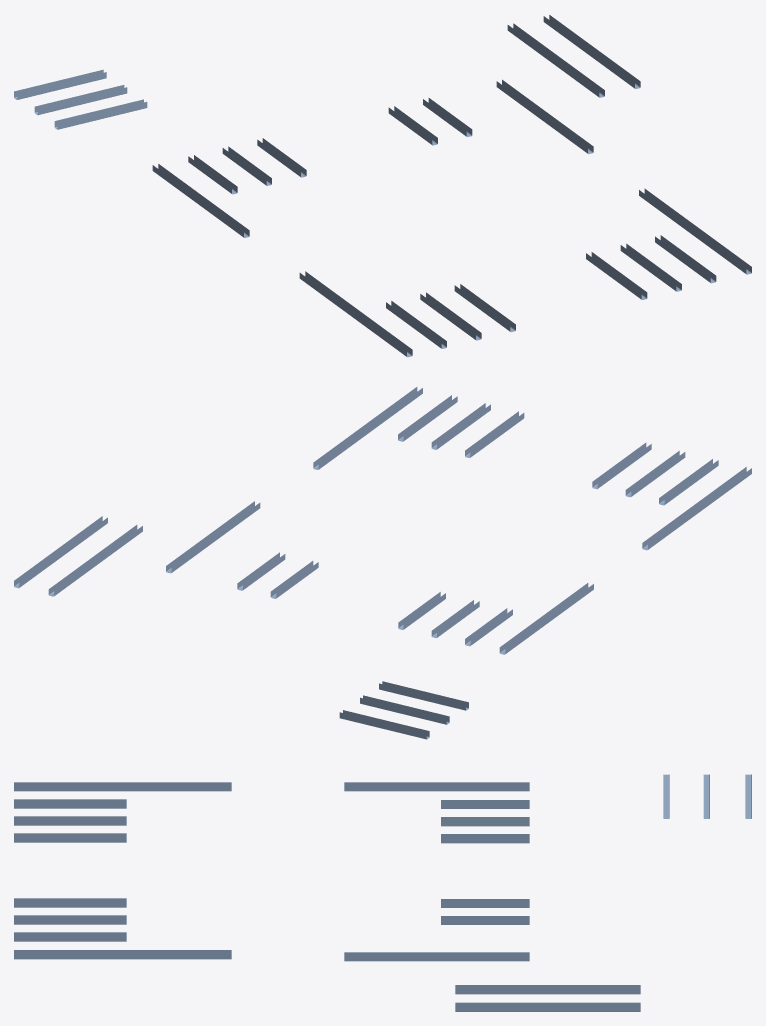
Rendered from Floor01_beams.fbx.
3 renders of one model, top to bottom at view 1: azimuth 30°, elevation 25°; view 2: azimuth 150°, elevation 25°; view 3: azimuth 270°, elevation 25°, orthographic. The views are drawn at different scales.
Visible parts, largest first — view 1: pCube537, pCube538, pCube545, pCube541; view 2: pCube537, pCube538, pCube545, pCube541; view 3: pCube537, pCube538, pCube541, pCube545.
Boxes of the visible parts, x1,y1,x2,y2 form: pCube537: [299, 188, 751, 357]; pCube538: [152, 79, 593, 237]; pCube545: [14, 69, 147, 129]; pCube541: [507, 15, 640, 97]; pCube537: [313, 387, 751, 550]; pCube538: [166, 501, 593, 654]; pCube545: [339, 681, 468, 739]; pCube541: [14, 516, 142, 596]; pCube537: [14, 782, 231, 959]; pCube538: [344, 782, 529, 961]; pCube541: [455, 985, 640, 1011]; pCube545: [663, 774, 751, 818].
Bounding box in the file's own units: 3487 × 45.52 × 4581.
